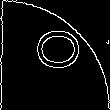O_W: (28, 33, 82, 77)
